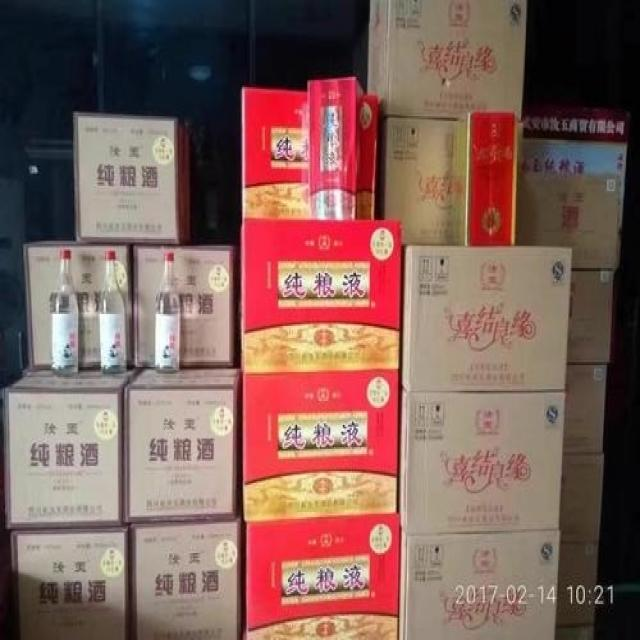box: (398, 382, 566, 534), (401, 243, 572, 392), (240, 215, 400, 373), (240, 370, 401, 522), (2, 369, 137, 531), (399, 513, 559, 637), (246, 511, 400, 638), (367, 1, 526, 121), (121, 368, 241, 522), (76, 114, 193, 244), (520, 101, 630, 232), (132, 238, 241, 369), (23, 241, 133, 370), (8, 524, 131, 638), (128, 520, 241, 638), (375, 116, 455, 245), (514, 173, 618, 268), (241, 85, 311, 218), (454, 110, 516, 244), (308, 76, 364, 218), (567, 266, 613, 362), (560, 450, 604, 544), (565, 361, 606, 451), (559, 540, 600, 623), (553, 619, 595, 634)
